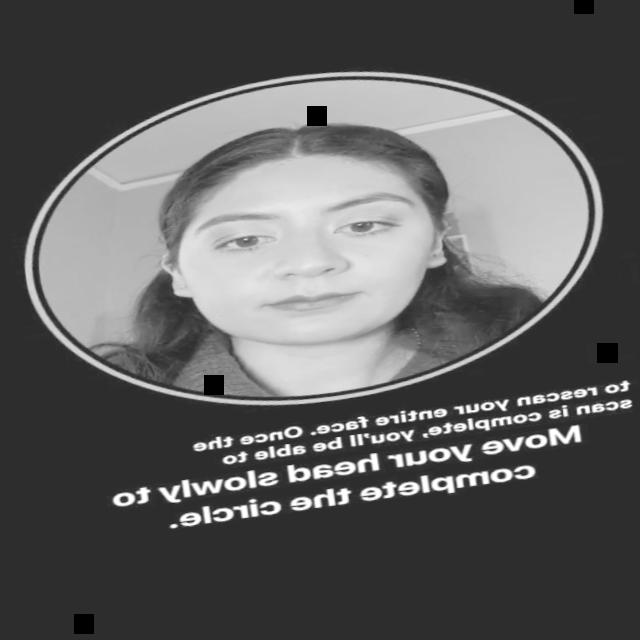NO-Mask: (146, 122, 474, 381)
